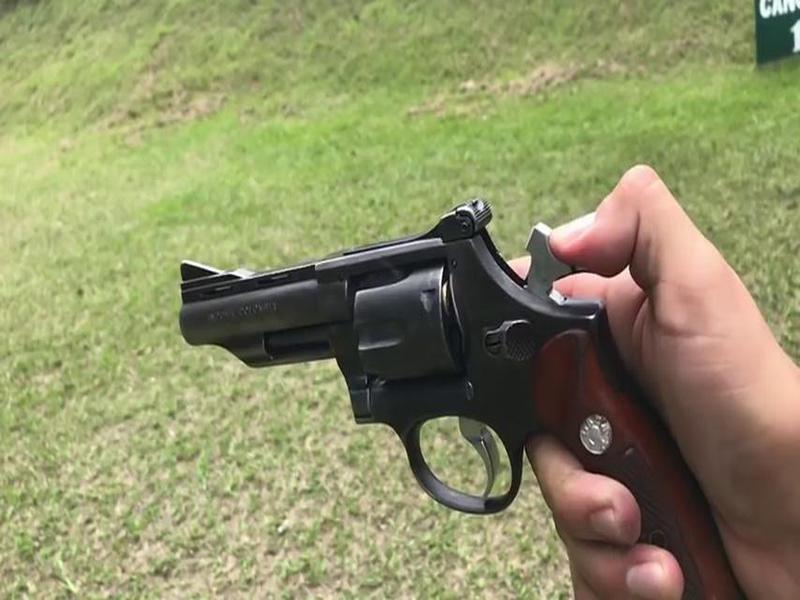Revolver: (167, 169, 645, 518)
